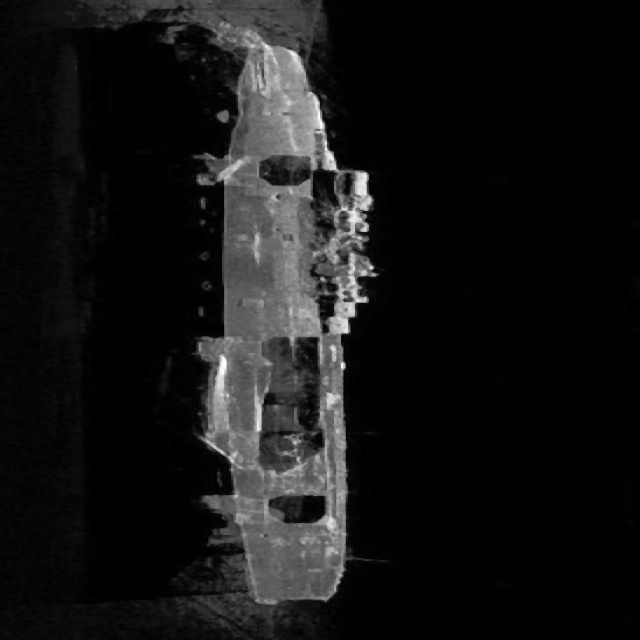Ship: (111, 6, 410, 615)
